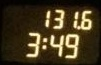-: (76, 24, 80, 30)
1: (42, 8, 51, 27), (71, 8, 78, 27)
3: (25, 30, 39, 59), (53, 7, 64, 29)
4: (49, 32, 63, 56)
6: (80, 7, 94, 30)
9: (65, 32, 79, 59)
X: (41, 34, 47, 52)
